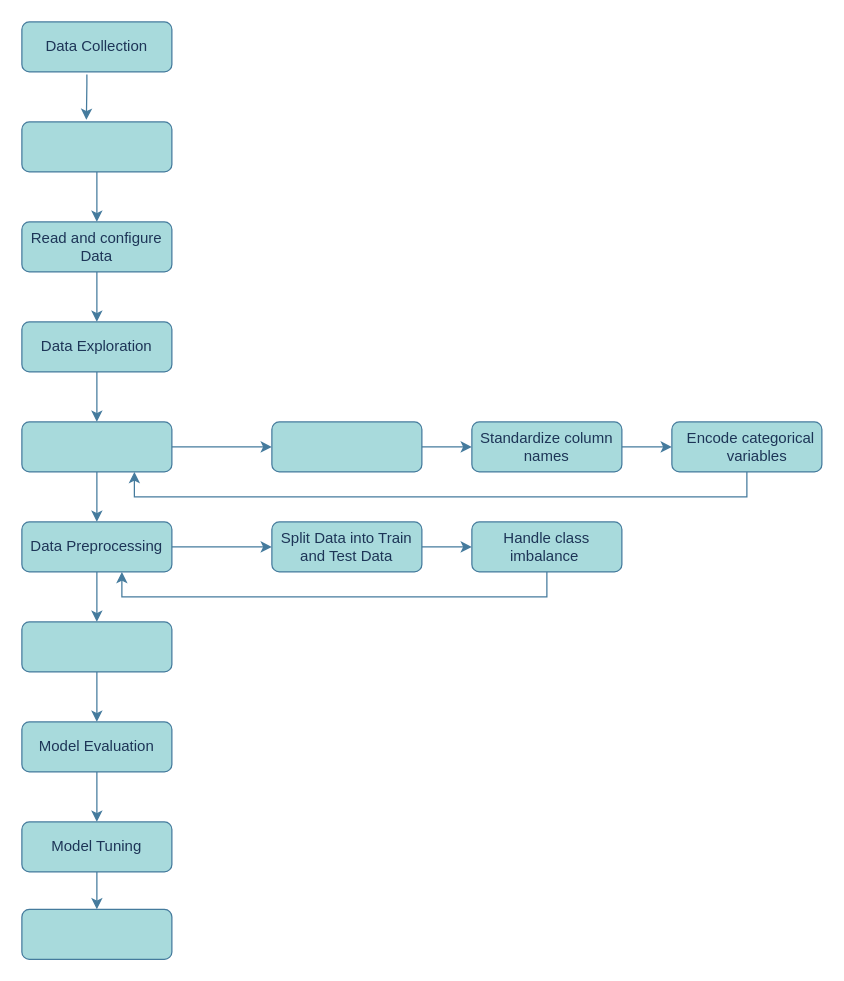
Image size: 844x981. Some labels were removed from this diagram. Here are the shapes that lost their labels. From the top down, the centre of each, then its label:
At (96,146): "Load Data in DBFS".
At (96,446): "Data Cleaning".
At (346,446): "NULL check".
At (96,646): "Model Training".
At (96,933): "Model Selection".
